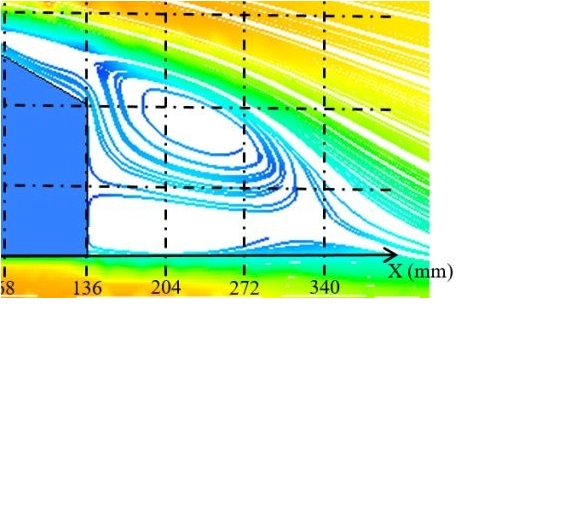vortox: (91, 60, 287, 200)
